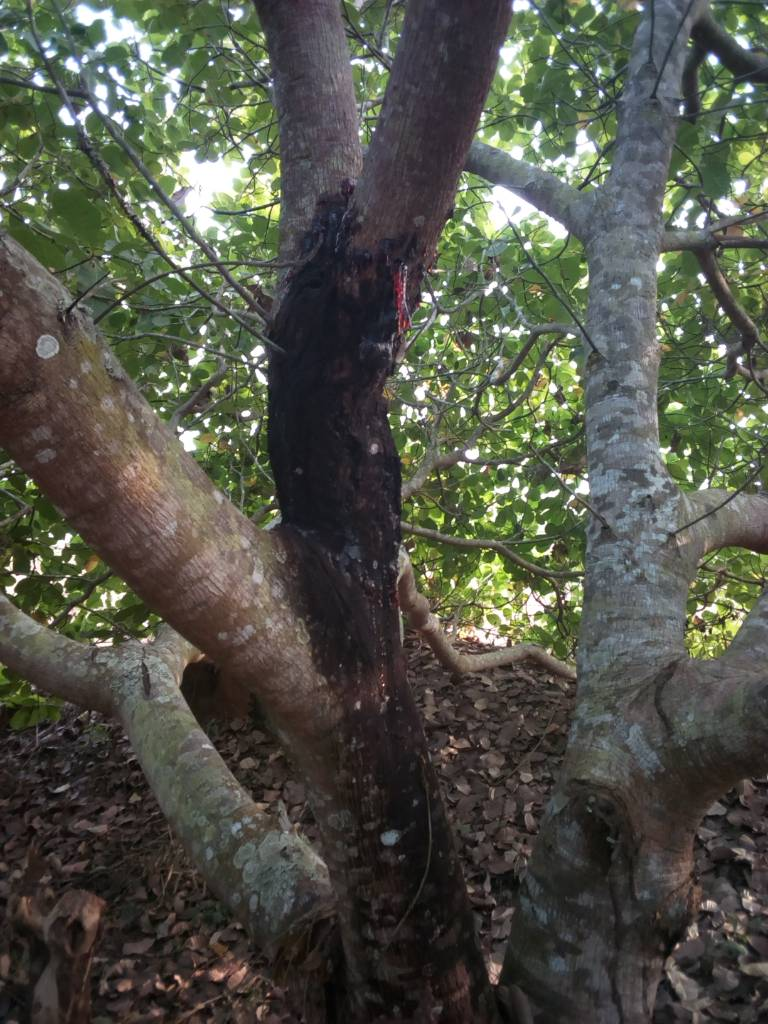Mecocorynus longiceps: (244, 209, 433, 651), (367, 231, 452, 354)
